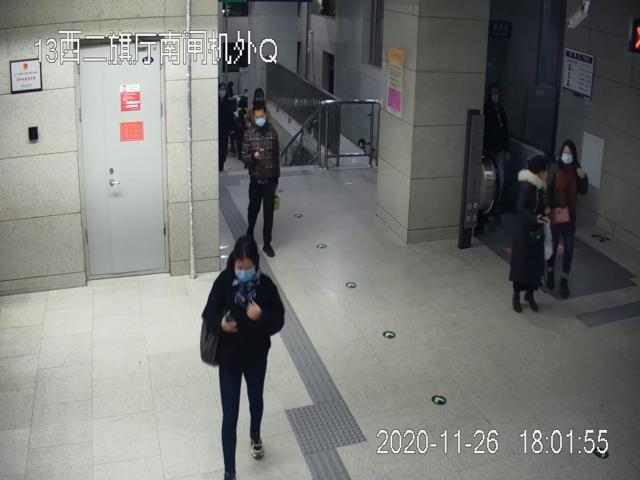person: (200, 236, 285, 480), (238, 101, 284, 257), (509, 153, 550, 316), (549, 140, 588, 304)
